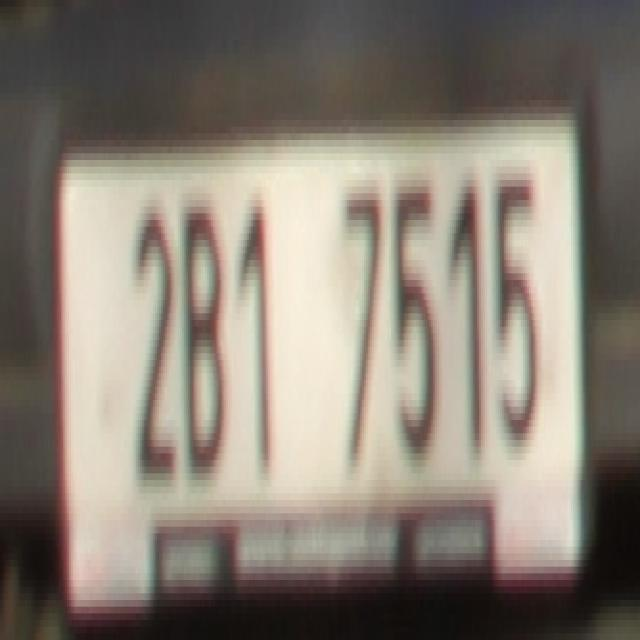1: (236, 193, 274, 480), (446, 180, 483, 453)
2: (128, 200, 176, 480)
5: (491, 153, 538, 440), (393, 180, 439, 460)
7: (334, 180, 382, 473)
B: (180, 206, 226, 486)
